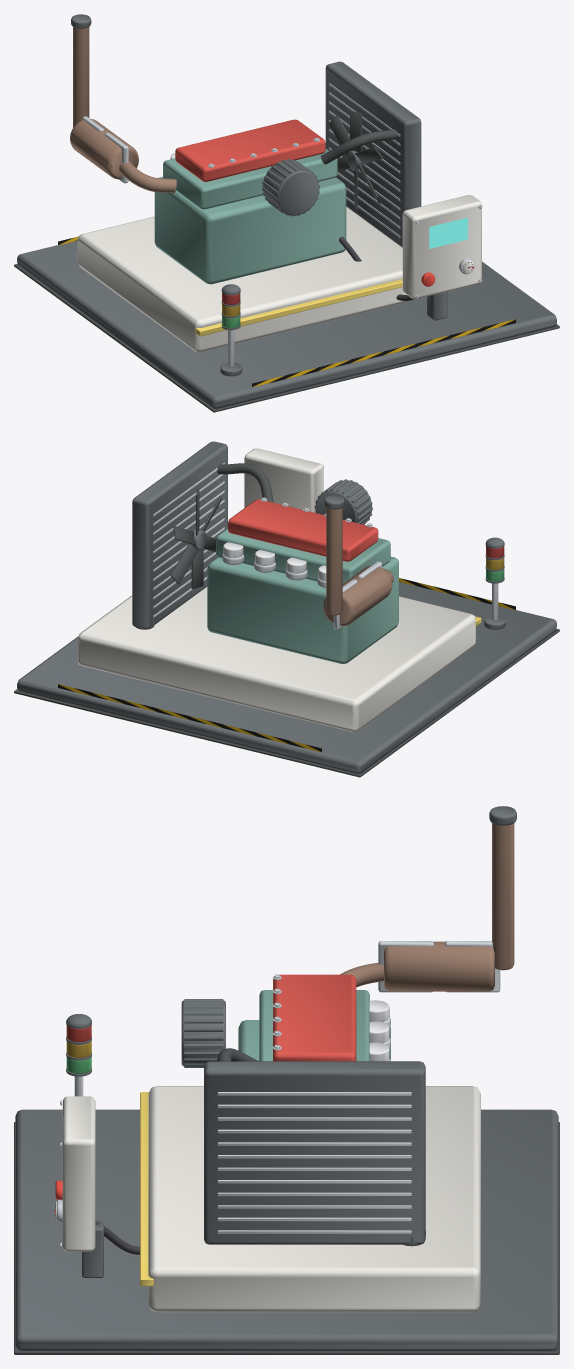
Rendered from generador.glb.
The picture shows the model from 3 angles, top to bottom: view 1: azimuth 30°, elevation 25°; view 2: azimuth 150°, elevation 25°; view 3: azimuth 270°, elevation 25°; orthographic projection. The views are drawn at different scales.
Visible parts, largest first — view 1: zocalo, deposito, bloque, radiador_marco, cuadro, balancines, culata, zocalo_goma, silencioso, filtro_aire, deposito_franja, chimenea (+6 smaller); view 2: deposito, zocalo, bloque, radiador_marco, balancines, cuadro, culata, zocalo_goma, silencioso, chimenea, franja1, filtro_aire (+5 smaller); view 3: zocalo, deposito, radiador_marco, balancines, cuadro, silencioso, chimenea, zocalo_goma, culata, filtro_aire_aletas, deposito_franja, filtro_aire (+14 smaller).
Part boxes in pixels (<box>): zocalo: <box>17,240,556,408</box>; deposito: <box>77,207,473,352</box>; bloque: <box>154,177,346,284</box>; radiador_marco: <box>325,61,421,247</box>; cuadro: <box>402,195,481,299</box>; balancines: <box>175,119,325,181</box>; culata: <box>163,148,337,209</box>; zocalo_goma: <box>14,264,559,412</box>; silencioso: <box>70,119,138,179</box>; filtro_aire: <box>262,160,319,215</box>; deposito_franja: <box>195,279,402,336</box>; chimenea: <box>73,27,89,127</box>; deposito: <box>77,587,475,731</box>; zocalo: <box>17,582,556,773</box>; bloque: <box>207,556,398,663</box>; radiador_marco: <box>132,441,227,629</box>; balancines: <box>228,499,378,561</box>; cuadro: <box>244,448,323,512</box>; culata: <box>216,528,390,583</box>; zocalo_goma: <box>14,628,559,777</box>; silencioso: <box>323,565,392,626</box>; chimenea: <box>326,508,342,615</box>; franja1: <box>58,684,321,752</box>; filtro_aire: <box>315,480,372,523</box>; zocalo: <box>15,1109,558,1350</box>; deposito: <box>148,1086,480,1312</box>; radiador_marco: <box>204,1061,425,1244</box>; balancines: <box>273,974,356,1061</box>; cuadro: <box>62,1096,95,1251</box>; silencioso: <box>384,941,494,991</box>; chimenea: <box>492,823,514,970</box>; zocalo_goma: <box>14,1122,559,1354</box>; culata: <box>259,990,369,1061</box>; filtro_aire_aletas: <box>184,999,223,1067</box>; deposito_franja: <box>140,1092,153,1286</box>; filtro_aire: <box>181,1000,225,1066</box>.
Size of the model in its own units: 1.97 by 1.41 by 1.97.
23 materials, 1 textured.
